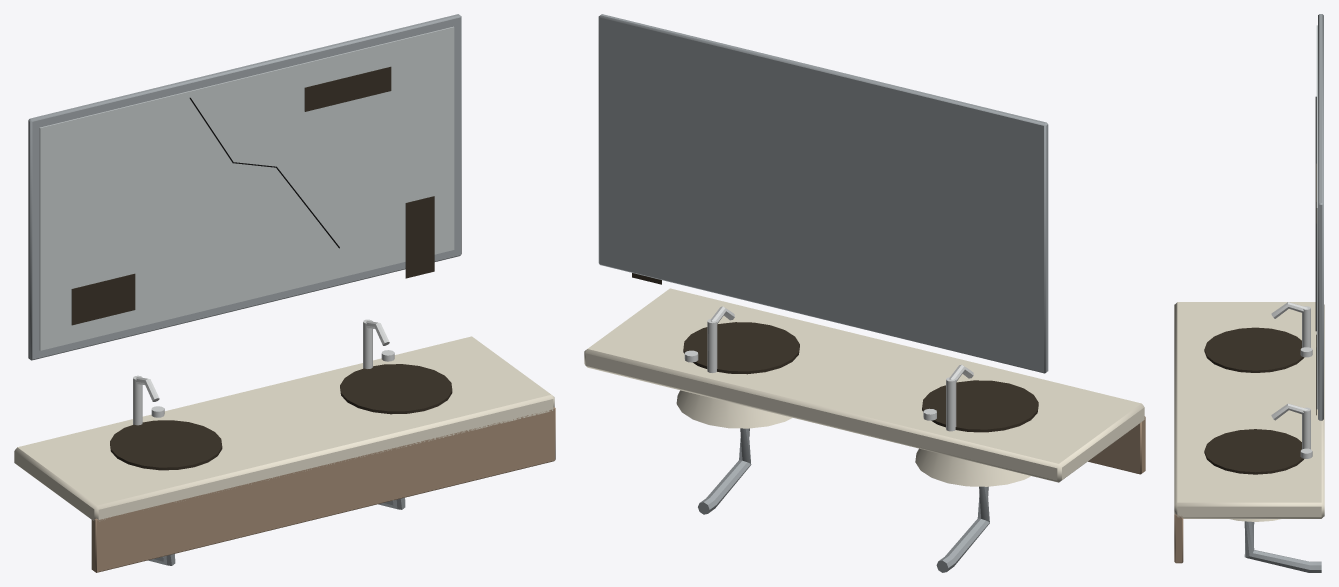
The model's file is sink_counter.glb.
The picture shows the model from 3 angles, left to right: view 1: azimuth 30°, elevation 25°; view 2: azimuth 150°, elevation 25°; view 3: azimuth 270°, elevation 25°; orthographic projection. The views are drawn at different scales.
Parts seen in each view (by area): view 1: SinkCounter; view 2: SinkCounter; view 3: SinkCounter.
Boxes of the visible parts, left/top/right/bottom form: SinkCounter: left=14, top=14, right=555, bottom=572; SinkCounter: left=584, top=14, right=1145, bottom=572; SinkCounter: left=1174, top=14, right=1324, bottom=572.
Bounding box in the file's own units: 1.6 × 1.52 × 0.5.
